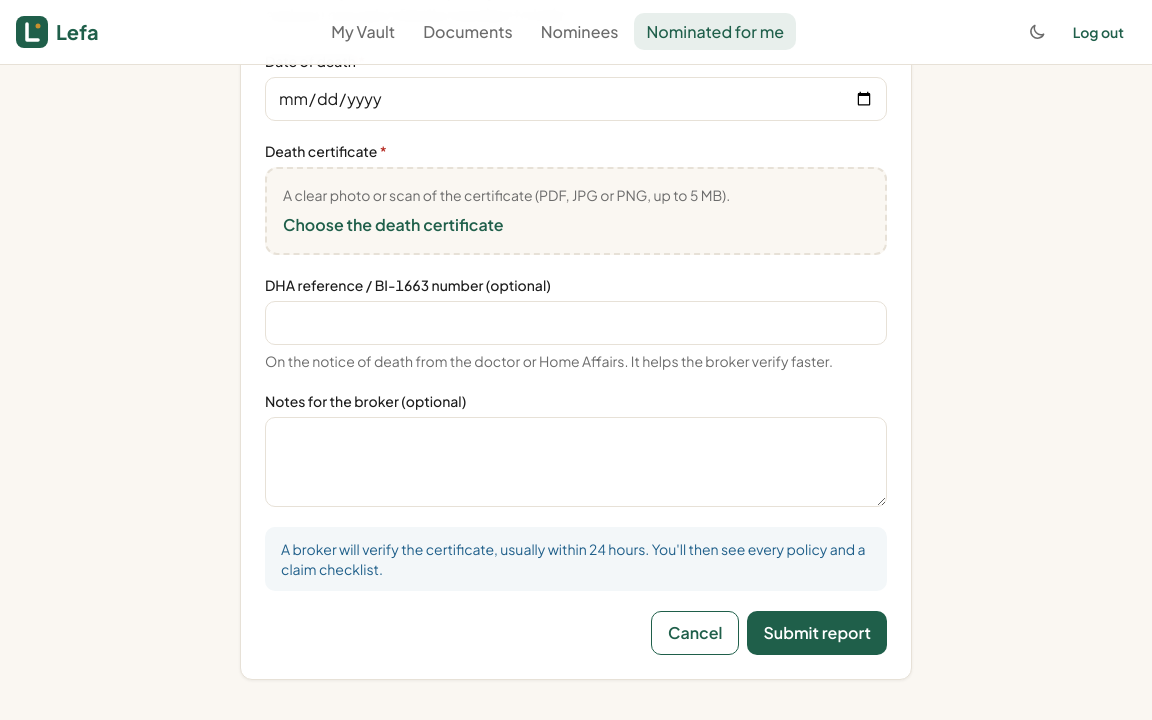
Test: Report a death (S9) › needs a date and a certificate, and the date cannot be in the future
(page scrolled)
Click the button "Submit report": (817, 633) [747,611,887,655]
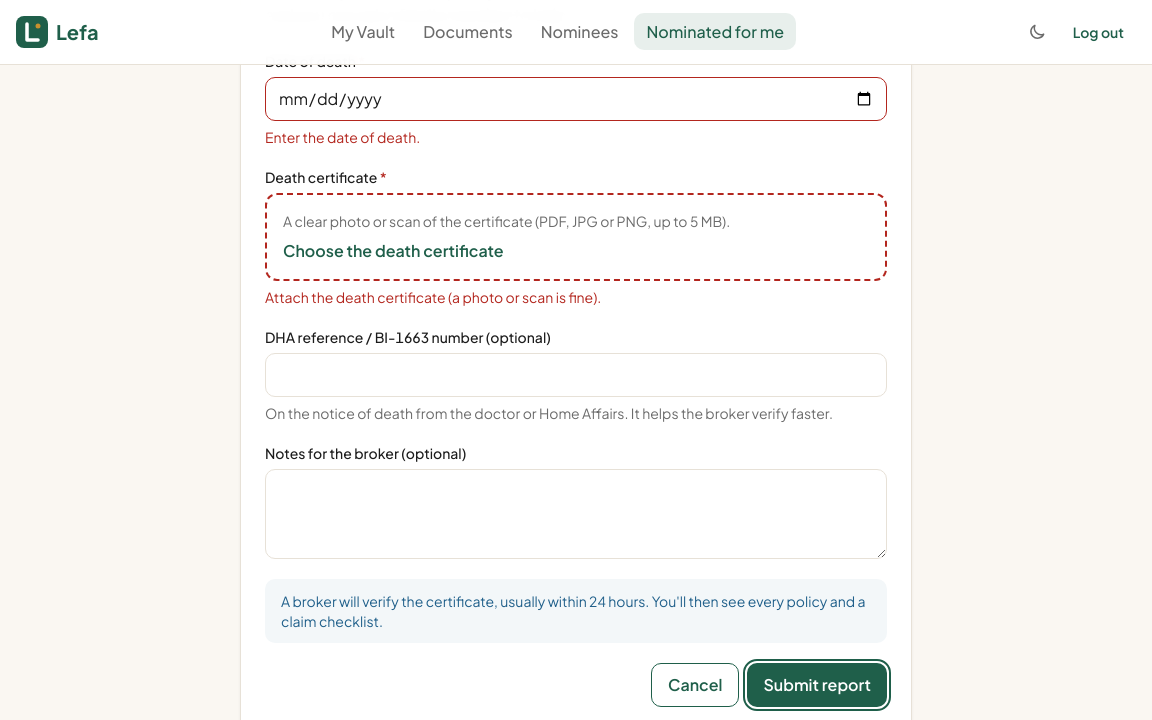
Result: the text "Enter the date of death." is shown at [265,128,420,146]
Result: the text "Attach the death certificate (a photo or scan is fine)." is shown at [265,288,601,306]
In the date field labelled "Date of death *": (576, 99) [265,77,887,121], type "2999-01-01"
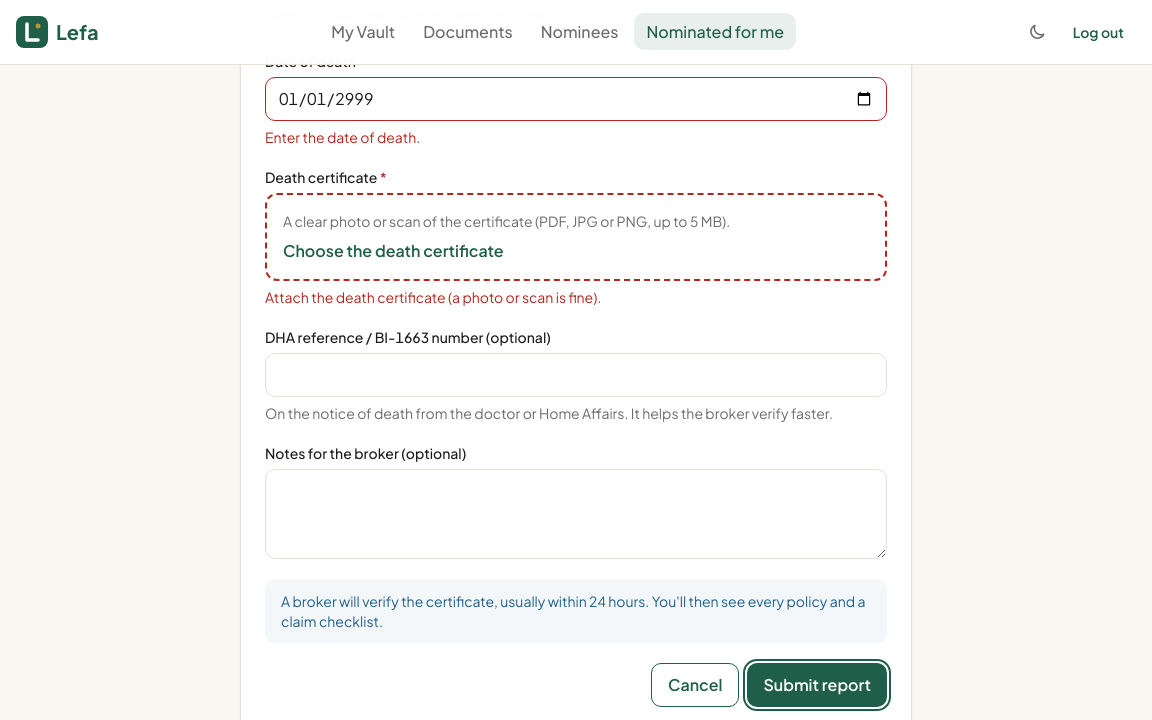
Click the button "Submit report": (817, 685) [747,663,887,707]
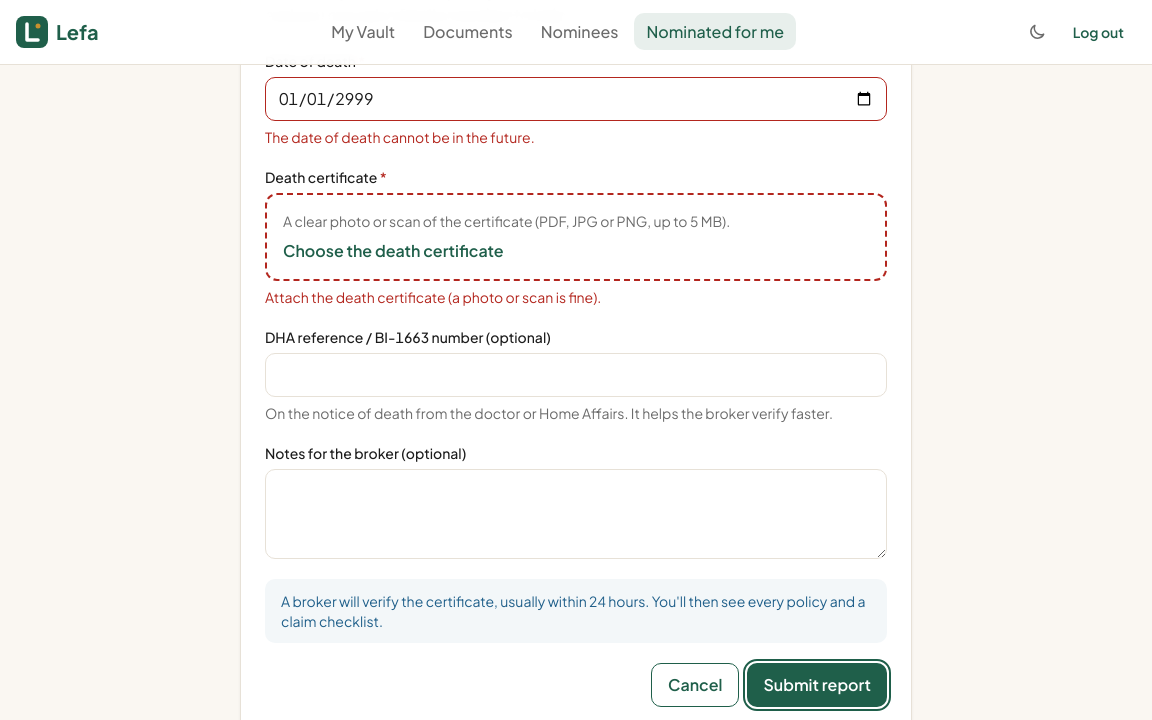
Result: the text "The date of death cannot be in the future." is shown at [265,128,535,146]
